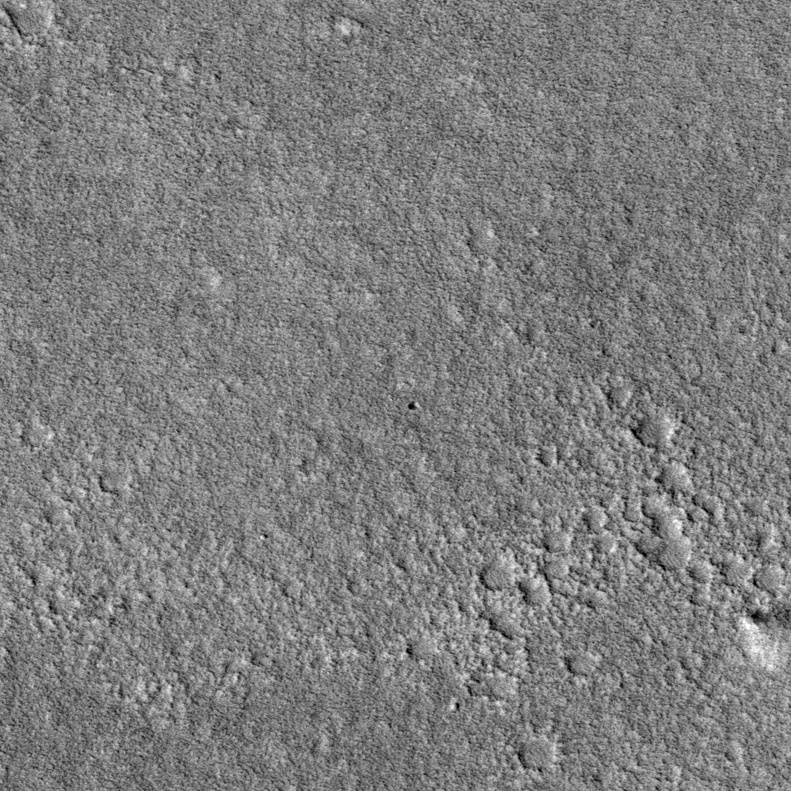dust_devil: (737, 603, 791, 673)
